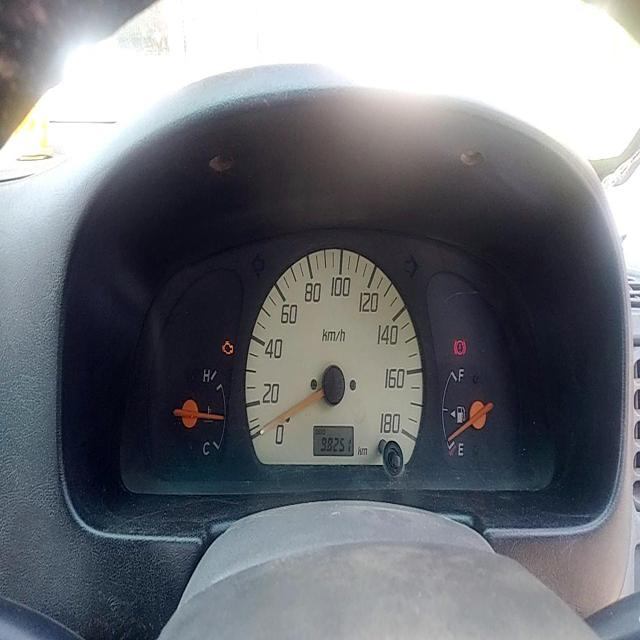odometer: (320, 432, 352, 454)
